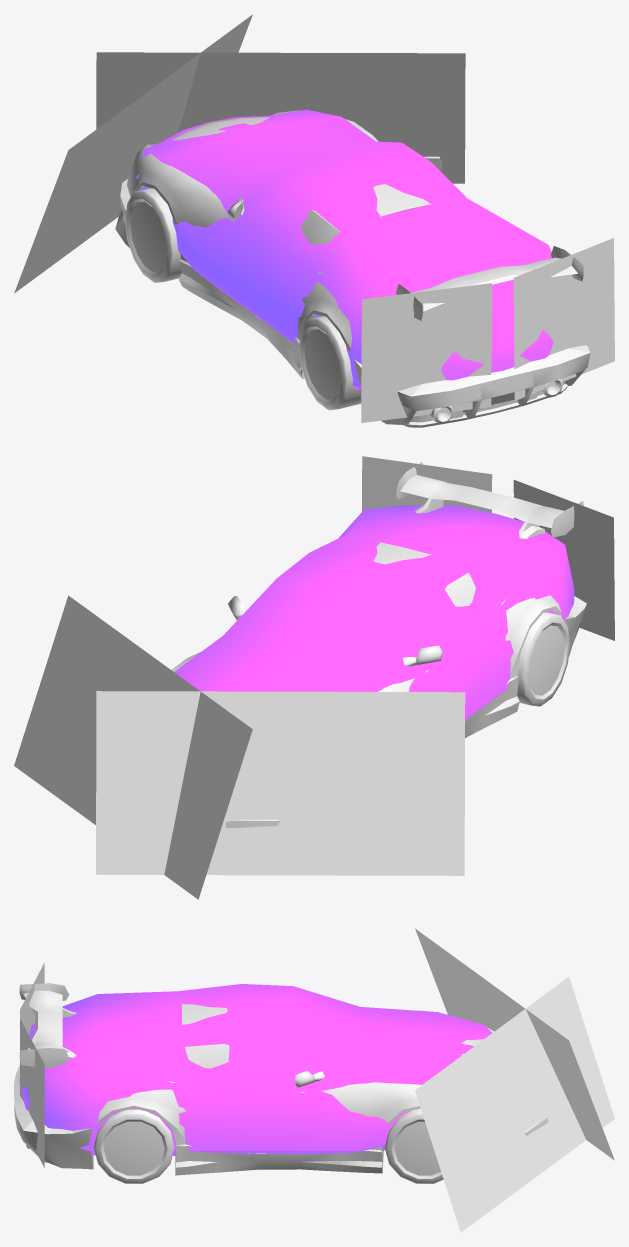
Rendered from AstonMartin.fbx.
The picture shows the model from 3 angles, top to bottom: view 1: azimuth 30°, elevation 25°; view 2: azimuth 150°, elevation 25°; view 3: azimuth 270°, elevation 25°; orthographic projection. The views are drawn at different scales.
Parts seen in each view (by area): view 1: AstonMartinProxy, AstonMartinFrontLights, AstonMartinRearLights, AstonMartin, AstonMartinRearBumper2, AstonMartinWheel_LB, AstonMartinWheel_LF, AstonMartinSpoiler1, AstonMartinRearBumper1, AstonMartinGlass; view 2: AstonMartinFrontLights, AstonMartinProxy, AstonMartinRearLights, AstonMartin, AstonMartinSpoiler1, AstonMartinWheel_LB, AstonMartinGlass; view 3: AstonMartinProxy, AstonMartinFrontLights, AstonMartin, AstonMartinWheel_RB, AstonMartinSpoiler1, AstonMartinWheel_RF, AstonMartinRearBumper2, AstonMartinRearLights, AstonMartinGlass.
Part boxes in pixels (x1,y1,x2,y2): AstonMartinProxy: (135, 109, 553, 390); AstonMartinFrontLights: (14, 14, 465, 293); AstonMartinRearLights: (361, 238, 614, 422); AstonMartin: (127, 110, 442, 379); AstonMartinRearBumper2: (354, 345, 590, 425); AstonMartinWheel_LB: (299, 316, 361, 410); AstonMartinWheel_LF: (125, 188, 181, 282); AstonMartinSpoiler1: (396, 246, 583, 320); AstonMartinRearBumper1: (404, 380, 567, 427); AstonMartinGlass: (301, 210, 339, 244); AstonMartinFrontLights: (14, 595, 465, 899); AstonMartinProxy: (174, 505, 574, 720); AstonMartinRearLights: (362, 456, 614, 640); AstonMartin: (171, 542, 561, 737); AstonMartinSpoiler1: (396, 462, 583, 538); AstonMartinWheel_LB: (517, 612, 570, 706); AstonMartinGlass: (445, 573, 475, 606); AstonMartinProxy: (19, 984, 491, 1155); AstonMartinFrontLights: (415, 928, 614, 1232); AstonMartin: (91, 1004, 494, 1175); AstonMartinWheel_RB: (94, 1109, 174, 1183); AstonMartinSpoiler1: (19, 983, 76, 1068); AstonMartinWheel_RF: (385, 1108, 443, 1183); AstonMartinRearBumper2: (14, 1065, 93, 1169); AstonMartinRearLights: (20, 963, 44, 1167); AstonMartinGlass: (185, 1045, 229, 1068).
Size of the model in its own units: 3.82 by 5.27 by 1.28.
